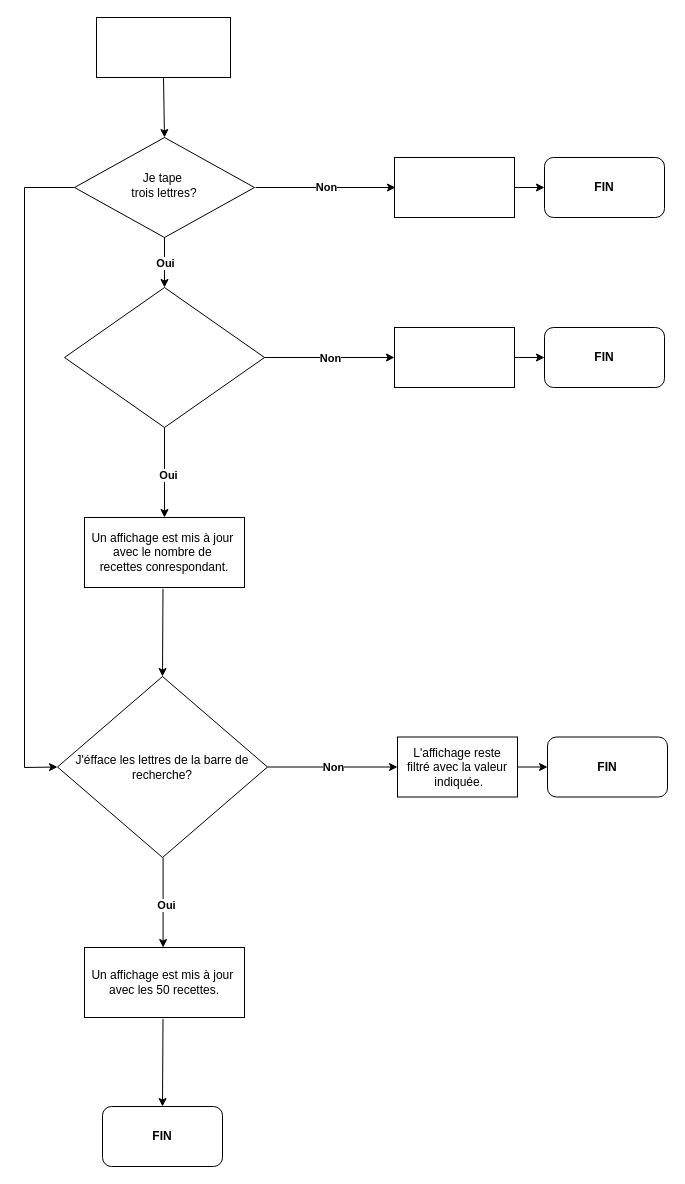
The diagram is 685 pixels wide and 1184 high, and some of its shapes have lost their labels. The centre of each missing label's shape, as x and y in pixels:
Afiichage de la phrase: Aucun résultat.: the point at 454,357
Aucuns filtre n'est appliqué.: the point at 454,187
La barre de recherche est préssée.: the point at 163,47
Le filtre est appliqué avec un mot correspondant à une recette?: the point at 164,357
